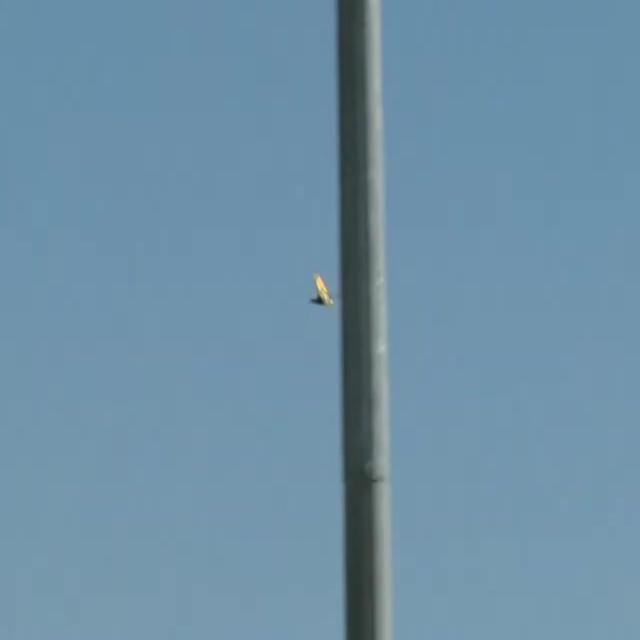iha: (306, 266, 337, 314)
